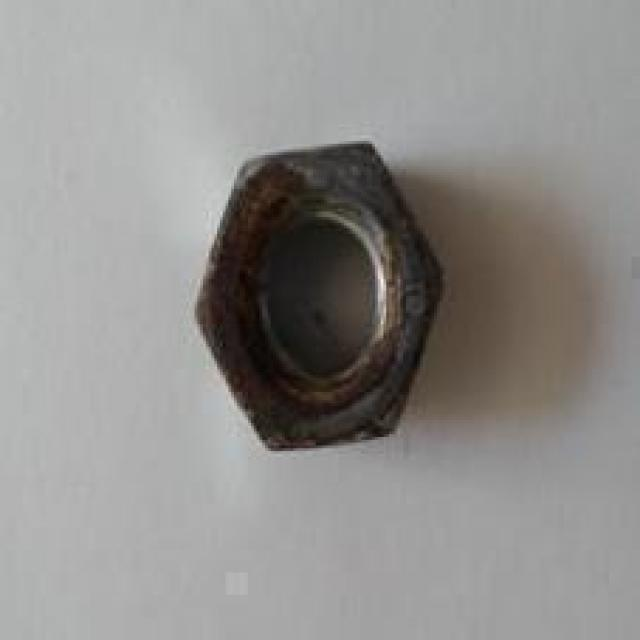ecrouNOK: (188, 137, 454, 457)
